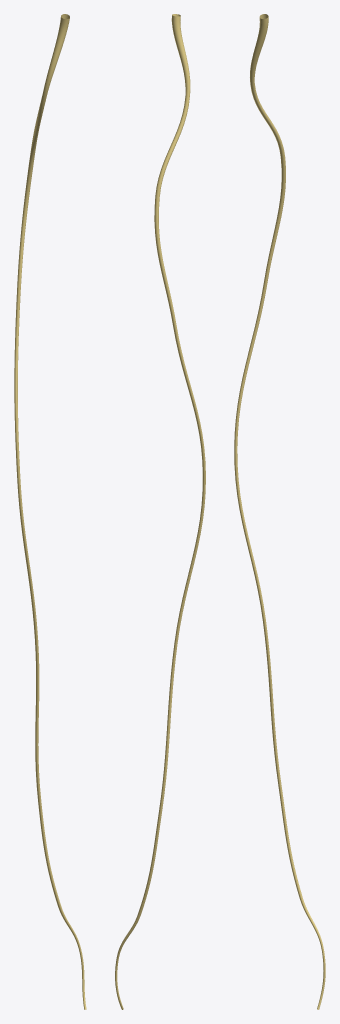
3 renders of one model, left to right at view 1: azimuth 30°, elevation 25°; view 2: azimuth 150°, elevation 25°; view 3: azimuth 330°, elevation 25°, orthographic. The views are drawn at different scales.
Visible parts, largest first — view 1: ZA_a1c369d50bfbb735; view 2: ZA_a1c369d50bfbb735; view 3: ZA_a1c369d50bfbb735.
Boxes of the visible parts, bbox=[...] form: ZA_a1c369d50bfbb735: bbox=[14, 14, 86, 1009]; ZA_a1c369d50bfbb735: bbox=[115, 14, 205, 1009]; ZA_a1c369d50bfbb735: bbox=[234, 14, 325, 1009].
Size of the model in its own units: 0.0398 by 0.483 by 0.0281.
